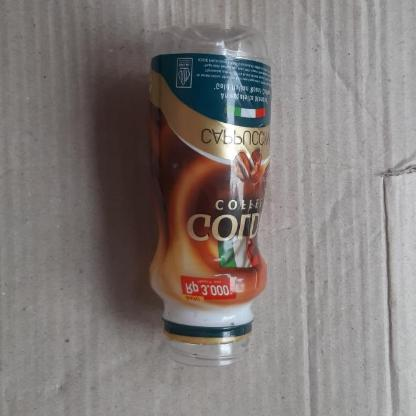Plastic Bottle: (148, 25, 276, 367)
